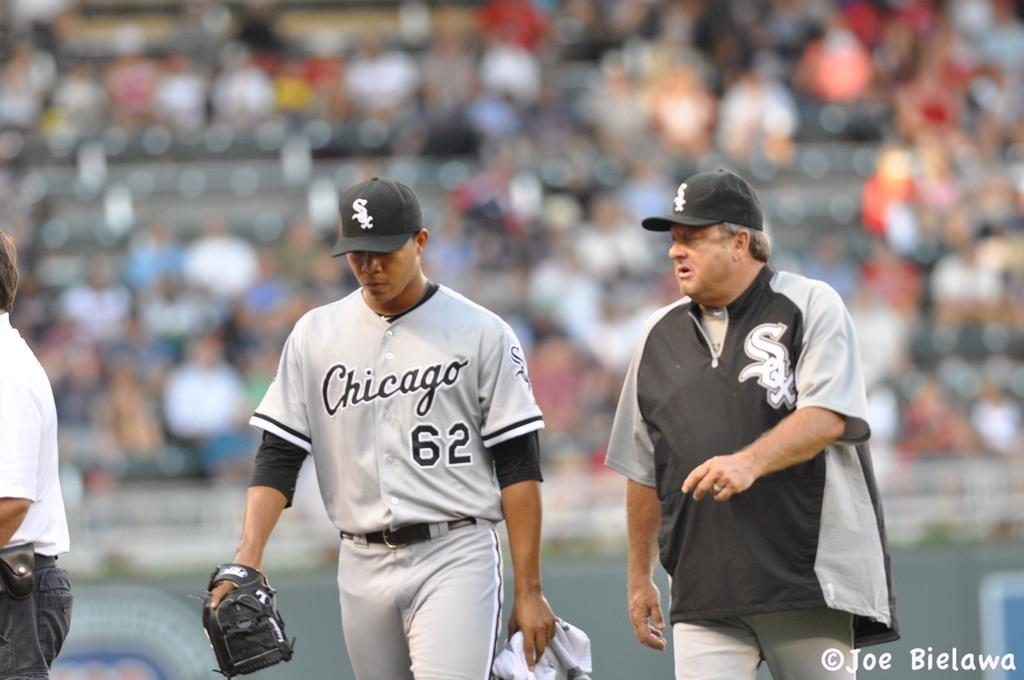Hat: (638, 168, 764, 234), (330, 175, 422, 260)
